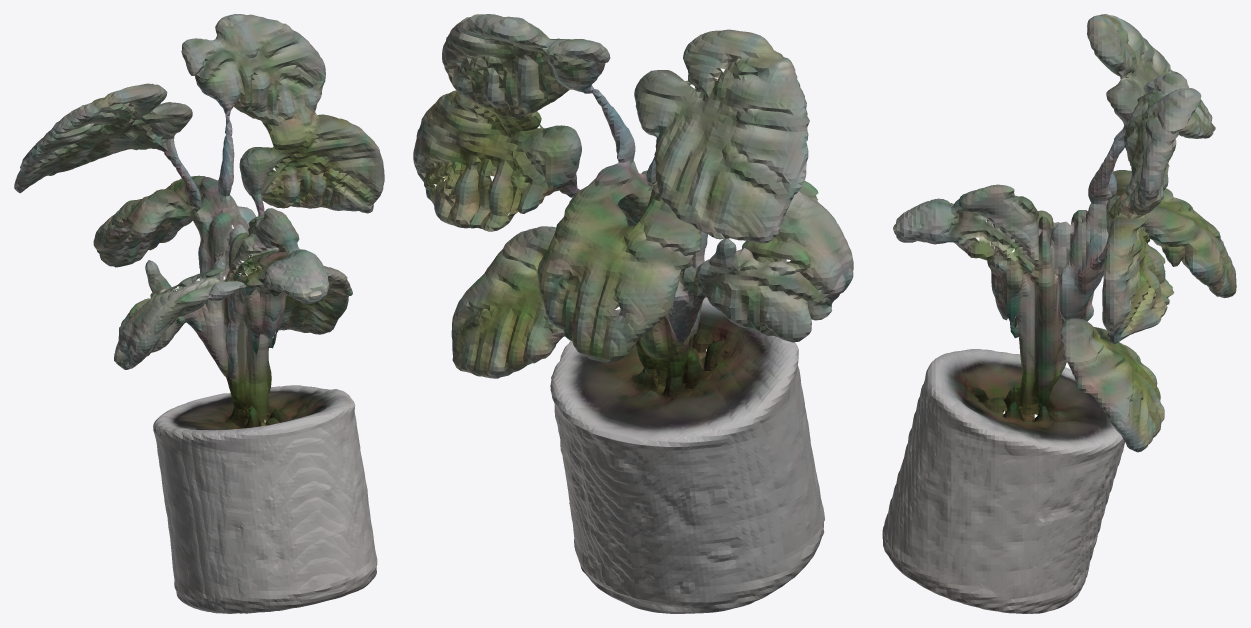
File: plant.glb
The picture shows the model from 3 angles, left to right: view 1: azimuth 30°, elevation 25°; view 2: azimuth 150°, elevation 25°; view 3: azimuth 270°, elevation 25°; orthographic projection. The views are drawn at different scales.
Parts seen in each view (by area): view 1: geometry_0; view 2: geometry_0; view 3: geometry_0.
Boxes of the visible parts, <box> form: geometry_0: <box>14,14,384,613</box>; geometry_0: <box>413,14,853,613</box>; geometry_0: <box>882,14,1236,613</box>.
Size of the model in its own units: 0.7005 by 0.9999 by 0.6102.
